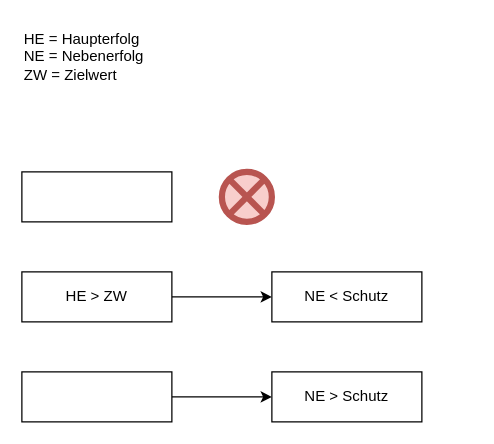
Some shapes in this 494 by 444 pixel diagram are drawn without their labels. The centre of each missing label's shape, as x and y in pixels:
"HE < ZW" belongs at point (96, 196).
"HE > ZW + Größe (Rüstung)" belongs at point (96, 396).
